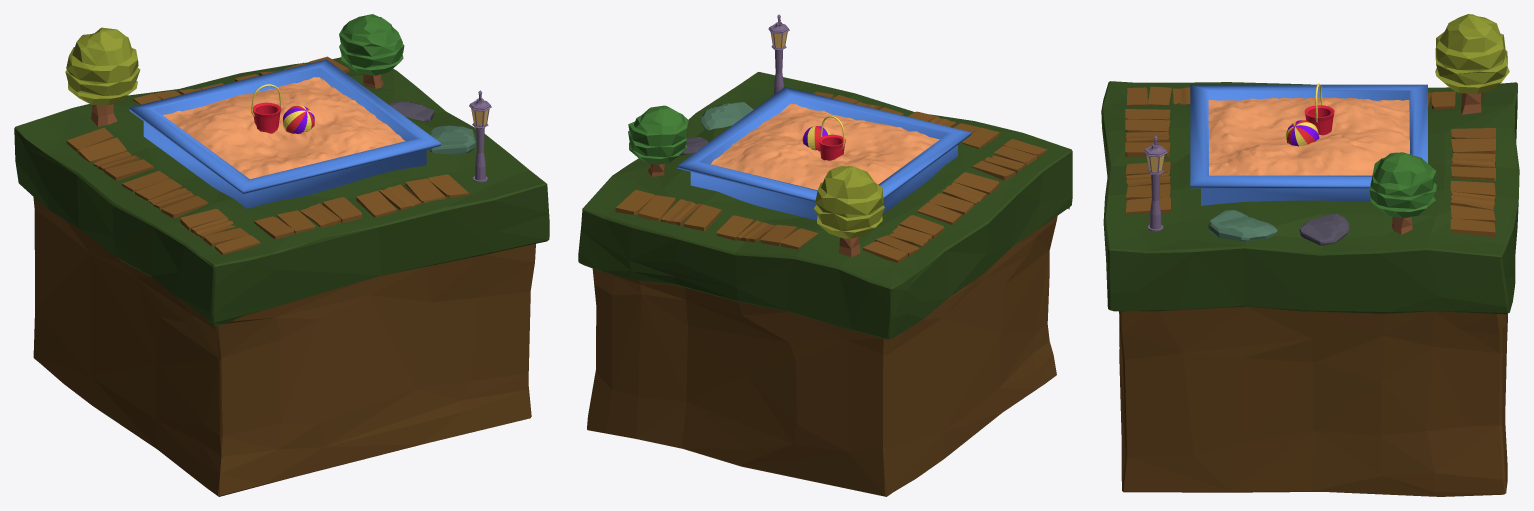
File: tile_sandbox.min.gltf
The picture shows the model from 3 angles, left to right: view 1: azimuth 30°, elevation 25°; view 2: azimuth 150°, elevation 25°; view 3: azimuth 270°, elevation 25°; orthographic projection. The views are drawn at different scales.
Visible parts, largest first — view 1: CENTERED.003, Sphere.002, Circle.008, Circle.007, Cylinder.014, Cylinder.019, Cylinder.016, Cylinder.018, Cylinder.017, Sphere.004, Box001.020, Cylinder.020 (+1 smaller); view 2: CENTERED.003, Sphere.002, Circle.008, Circle.007, Cylinder.013, Cylinder.018, Cylinder.019, Cylinder.047, Cylinder.017, Sphere.004, Box001.020, Cylinder.016 (+1 smaller); view 3: CENTERED.003, Sphere.002, Circle.008, Circle.007, Cylinder.013, Cylinder.047, Cylinder.016, Cylinder.014, Box001.020, Sphere.004, Box001.019, Cylinder.020 (+2 smaller).
Part boxes in pixels (box(x1,y1,x2,y2)): CENTERED.003: box(14, 57, 549, 496); Sphere.002: box(129, 59, 440, 208); Circle.008: box(65, 27, 140, 126); Circle.007: box(339, 14, 404, 88); Cylinder.014: box(356, 174, 469, 217); Cylinder.019: box(66, 127, 153, 180); Cylinder.016: box(254, 197, 362, 239); Cylinder.018: box(122, 171, 208, 218); Cylinder.017: box(180, 209, 260, 254); Sphere.004: box(251, 84, 314, 133); Box001.020: box(427, 125, 475, 154); Cylinder.020: box(469, 90, 491, 182); CENTERED.003: box(578, 72, 1072, 496); Sphere.002: box(677, 87, 971, 220); Circle.008: box(813, 166, 884, 257); Circle.007: box(628, 105, 688, 176); Cylinder.013: box(615, 189, 721, 230); Cylinder.018: box(917, 172, 999, 224); Cylinder.019: box(863, 215, 944, 262); Cylinder.047: box(716, 215, 818, 249); Cylinder.017: box(972, 139, 1047, 180); Sphere.004: box(802, 115, 845, 160); Box001.020: box(701, 102, 753, 130); Cylinder.016: box(907, 111, 999, 148); CENTERED.003: box(1101, 81, 1519, 496); Sphere.002: box(1190, 84, 1427, 205); Circle.008: box(1435, 14, 1509, 114); Circle.007: box(1369, 152, 1436, 234); Cylinder.013: box(1450, 180, 1495, 237); Cylinder.047: box(1451, 128, 1495, 181); Cylinder.016: box(1125, 109, 1170, 157); Cylinder.014: box(1125, 161, 1170, 214); Box001.020: box(1208, 210, 1277, 240); Sphere.004: box(1285, 83, 1334, 146); Box001.019: box(1299, 213, 1349, 245); Cylinder.020: box(1143, 135, 1167, 231).
Bounding box in the file's own units: 1.07 × 0.9962 × 1.09.
